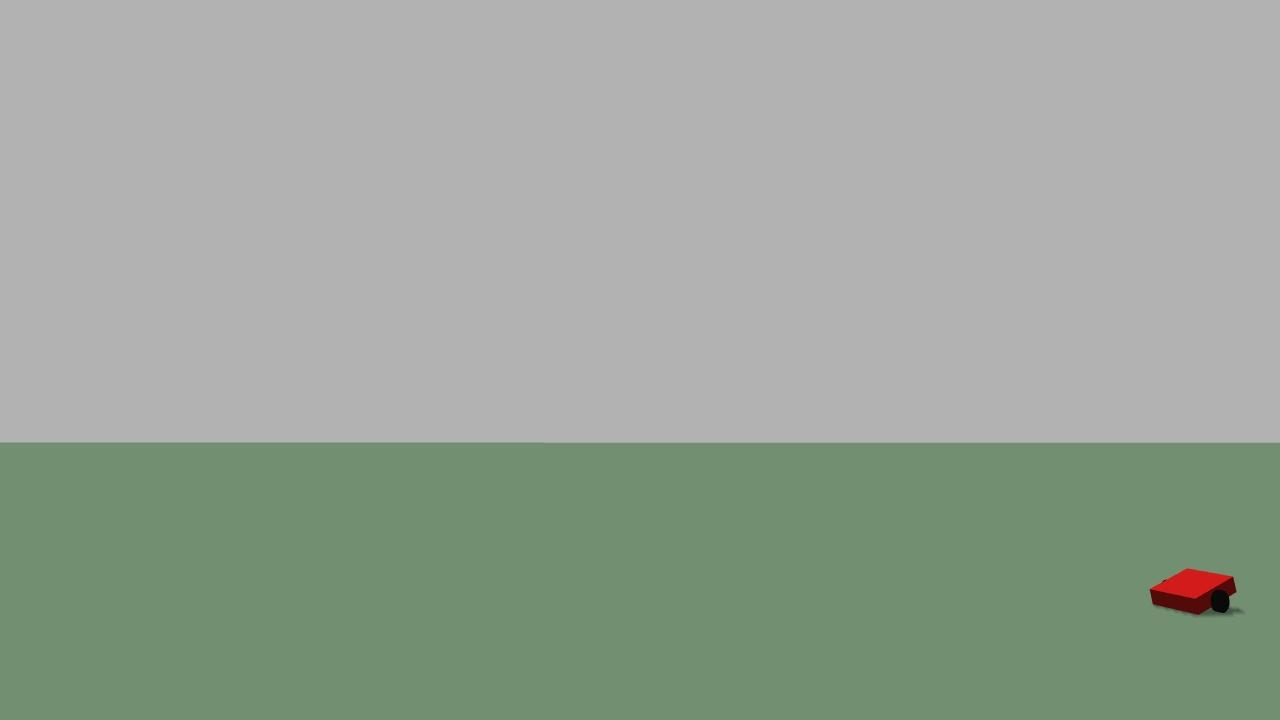ground_vehicle: (1133, 552, 1255, 635)
